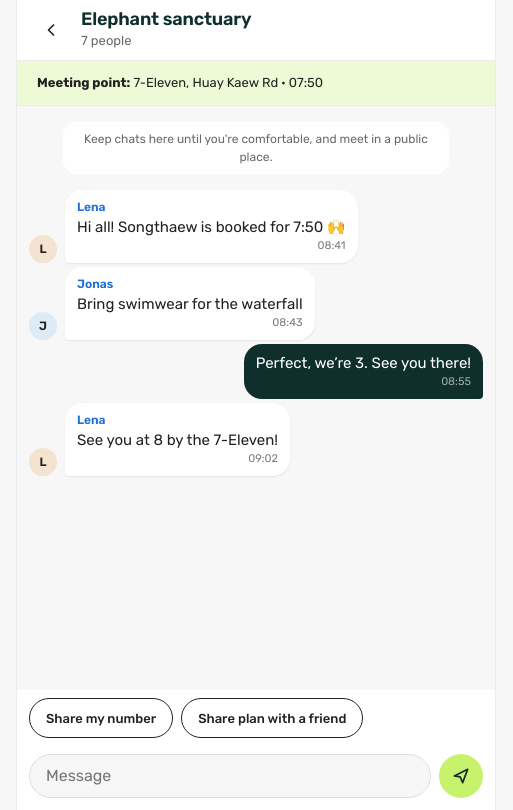
it: mockup screens › sends a chat message
Type "On my way" into the field labelled "Message" at (230, 776), box [29, 754, 431, 798]
Then press Enter
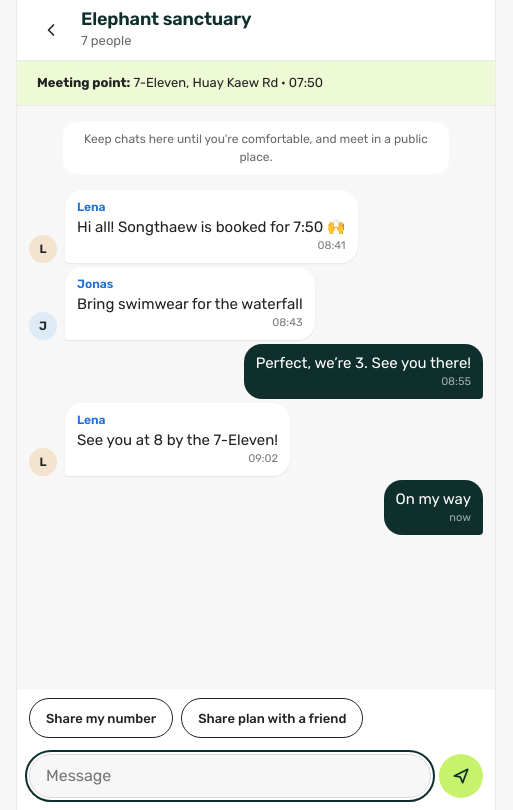
Check: the text "On my way" is shown, box [396, 488, 471, 510]
